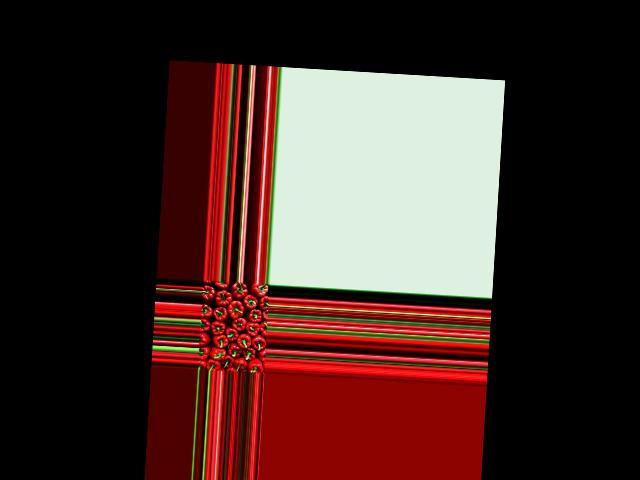bell_pepper: (249, 358, 264, 372)
